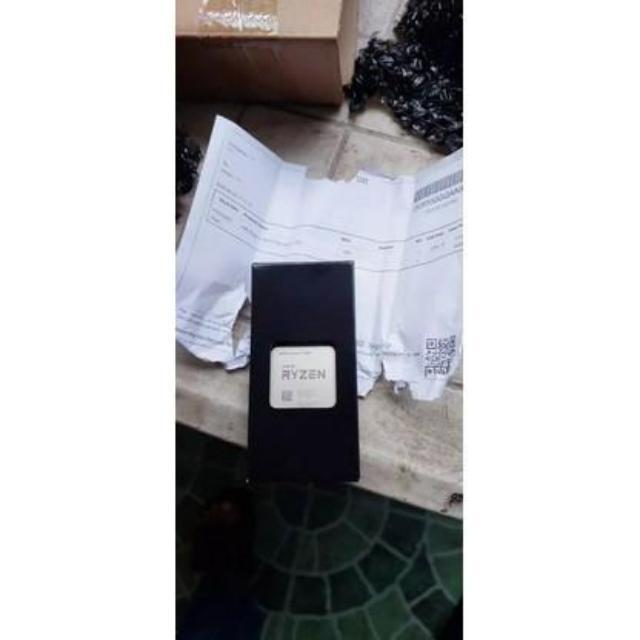CPU: (270, 346, 336, 408)
